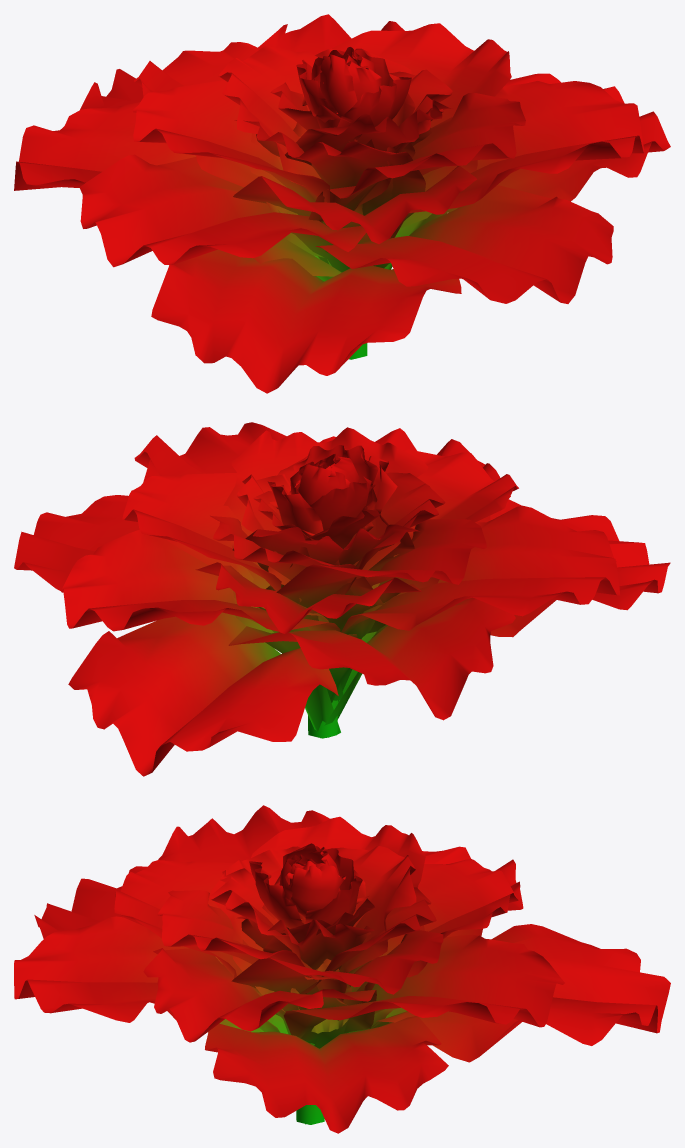
The model's file is Purple Ornamental Kale_LOD0_Var2_ugdieawja.fbx.
3 renders of one model, top to bottom at view 1: azimuth 30°, elevation 25°; view 2: azimuth 150°, elevation 25°; view 3: azimuth 270°, elevation 25°, orthographic. The views are drawn at different scales.
Visible parts, largest first — view 1: _0939_Var2_LOD0; view 2: _0939_Var2_LOD0; view 3: _0939_Var2_LOD0.
Boxes of the visible parts, box(x1,y1,x2,y2) form: _0939_Var2_LOD0: box(14, 14, 670, 393); _0939_Var2_LOD0: box(14, 422, 670, 776); _0939_Var2_LOD0: box(14, 805, 670, 1133).
Size of the model in its own units: 56.33 by 27.86 by 61.61.
